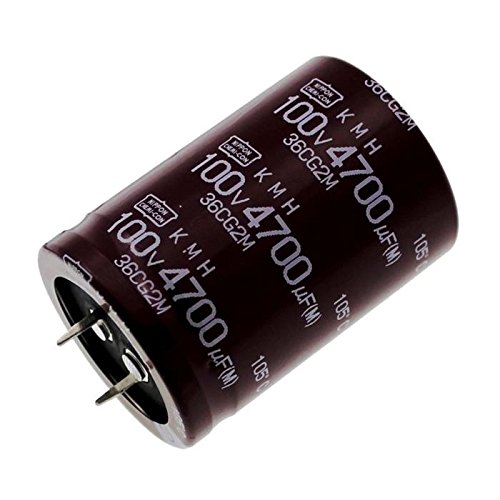capacitor: (26, 24, 471, 459)
